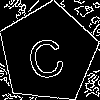C: (23, 28, 68, 81)
